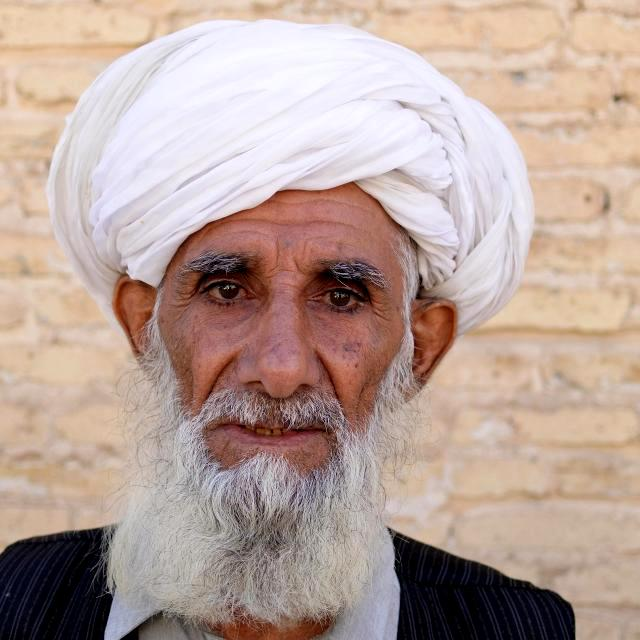no_hard_hat: (48, 20, 534, 324)
person: (0, 184, 574, 640)
